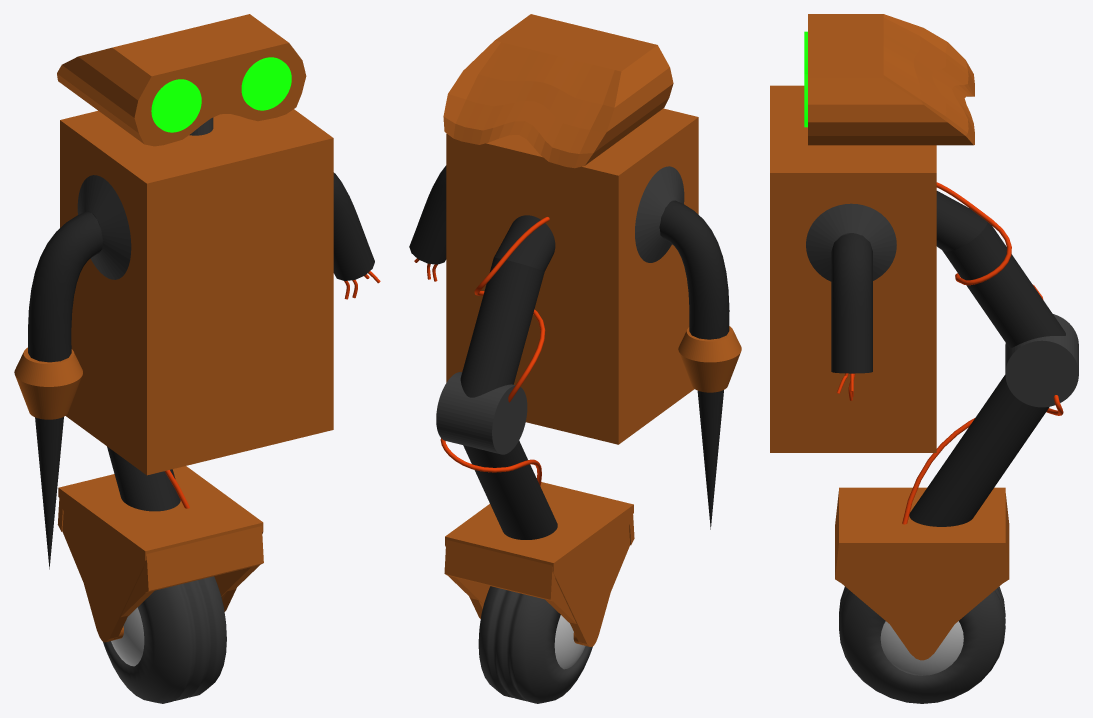
The model's file is MainCharModel.glb.
The picture shows the model from 3 angles, left to right: view 1: azimuth 30°, elevation 25°; view 2: azimuth 150°, elevation 25°; view 3: azimuth 270°, elevation 25°; orthographic projection. The views are drawn at different scales.
Parts seen in each view (by area): view 1: Cube, Cube.001, Cylinder, Circle.001, BezierCurve.002, Cylinder.002, Cylinder.008, Circle, Cylinder.007, BezierCurve.003, Cylinder.003, Cone (+1 smaller); view 2: Cube, Cube.001, Cylinder, Cylinder.004, Circle.001, BezierCurve.002, Cylinder.005, Cylinder.003, Cylinder.001, Cylinder.007, Circle, BezierCurve.003 (+4 smaller); view 3: Cube, Cube.001, Cylinder, Circle.001, Cylinder.003, Cylinder.004, BezierCurve.003, Cylinder.005, Circle.002, Sphere, Cylinder.001, Cylinder.002 (+2 smaller).
Part boxes in pixels (x1,y1,x2,y2): Cube: (60,109,333,475); Cube.001: (57,14,306,146); Cylinder: (58,466,263,642); Circle.001: (103,576,226,703); BezierCurve.002: (28,211,103,362); Cylinder.002: (121,526,263,616); Cylinder.008: (151,57,291,132); Circle: (77,175,131,279); Cylinder.007: (14,347,82,419); BezierCurve.003: (333,172,374,280); Cylinder.003: (107,446,180,511); Cone: (35,417,63,569); Cube: (446,108,698,444); Cube.001: (443,14,673,168); Cylinder: (445,482,633,646); Cylinder.004: (460,215,555,397); Circle.001: (478,586,592,703); BezierCurve.002: (659,200,729,339); Cylinder.005: (436,372,527,454); Cylinder.003: (463,440,557,539); Cylinder.001: (444,540,576,623); Cylinder.007: (678,326,741,392); Circle: (635,166,684,262); BezierCurve.003: (409,165,446,264); Cube: (770,85,936,452); Cube.001: (808,14,974,145); Cylinder: (839,487,1005,660); Circle.001: (839,586,1005,703); Cylinder.003: (909,375,1049,526); Cylinder.004: (936,191,1065,348); BezierCurve.003: (831,233,872,373); Cylinder.005: (1005,314,1078,407); Circle.002: (806,203,896,281); Sphere: (880,621,963,675); Cylinder.001: (955,493,1009,623); Cylinder.002: (835,491,888,623).
Size of the model in its own units: 4.7 by 8.61 by 3.7.
